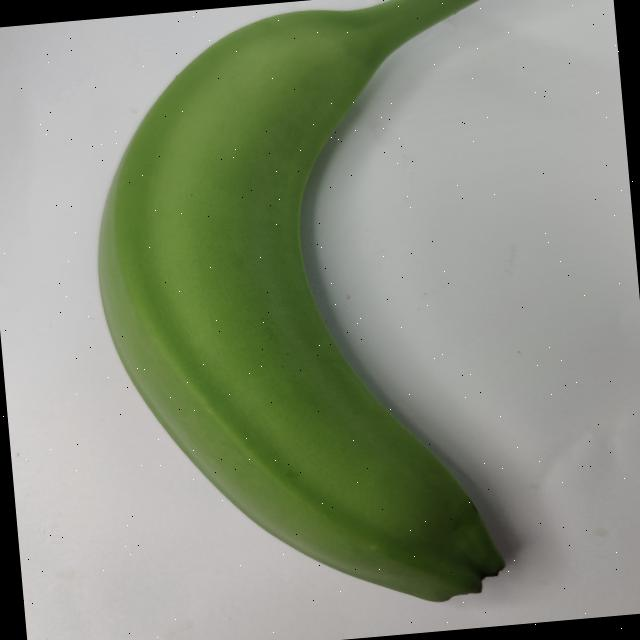Raw: (25, 0, 609, 631)
